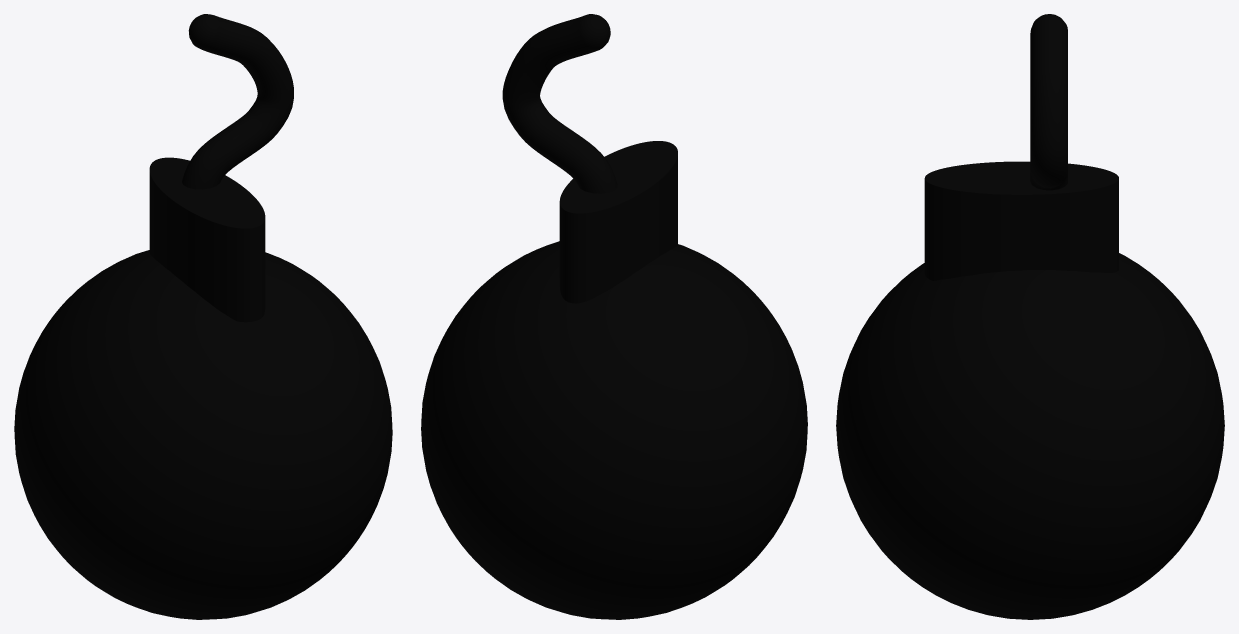
File: bomb.fbx
3 renders of one model, left to right at view 1: azimuth 30°, elevation 25°; view 2: azimuth 150°, elevation 25°; view 3: azimuth 270°, elevation 25°, orthographic. The views are drawn at different scales.
Parts seen in each view (by area): view 1: node_id68 (×3); view 2: node_id68 (×3); view 3: node_id68 (×3).
Boxes of the visible parts, x1,y1,x2,y2 form: node_id68 (×3): (14, 14, 392, 619); node_id68 (×3): (421, 14, 807, 619); node_id68 (×3): (836, 14, 1224, 619).
Bounding box in the file's own units: 0.2 × 0.3363 × 0.2.
3 materials, 3 textured.
